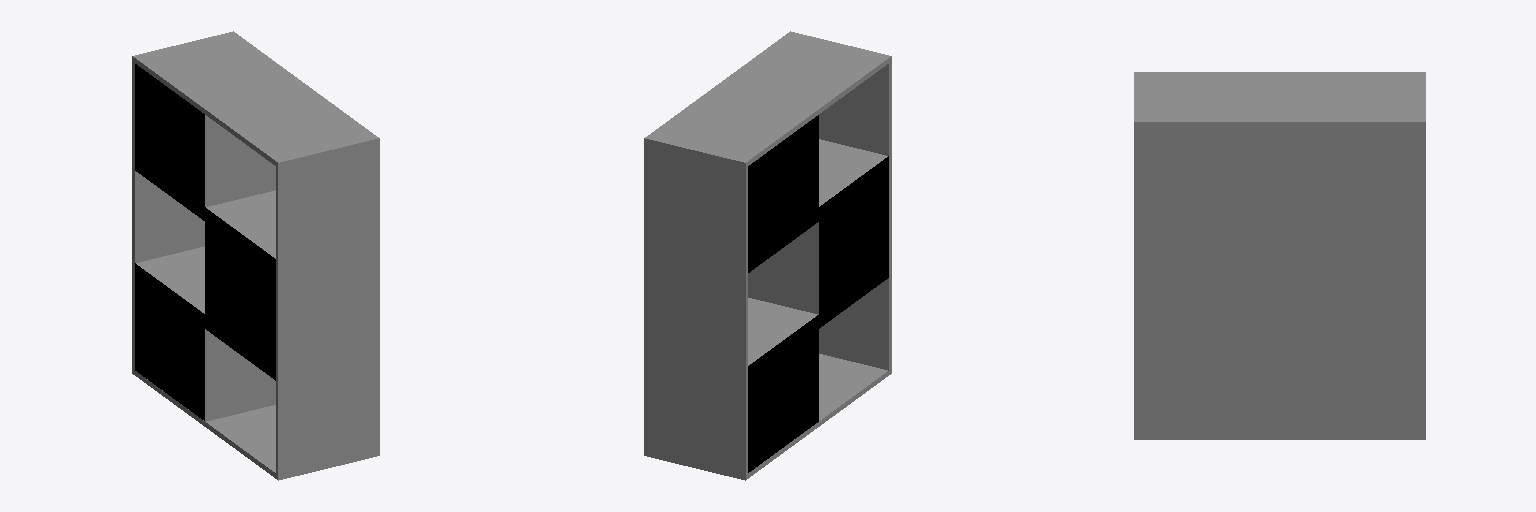
Rendered from Komode.obj.
3 renders of one model, left to right at view 1: azimuth 30°, elevation 25°; view 2: azimuth 150°, elevation 25°; view 3: azimuth 270°, elevation 25°, orthographic.
Parts seen in each view (by area): view 1: Körper1; view 2: Körper1; view 3: Körper1.
Boxes of the visible parts, box(x1,y1,x2,y2) form: Körper1: box(132, 31, 379, 480); Körper1: box(644, 31, 891, 480); Körper1: box(1134, 72, 1425, 439).
Bounding box in the file's own units: 400 × 1200 × 1000.